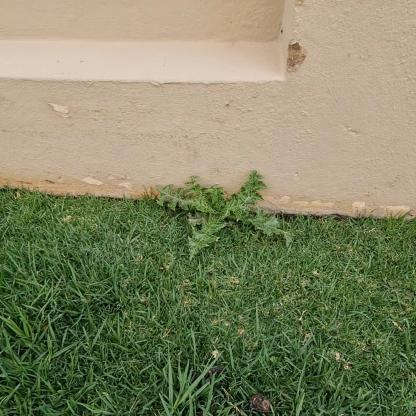Weeds: (155, 170, 295, 262)
